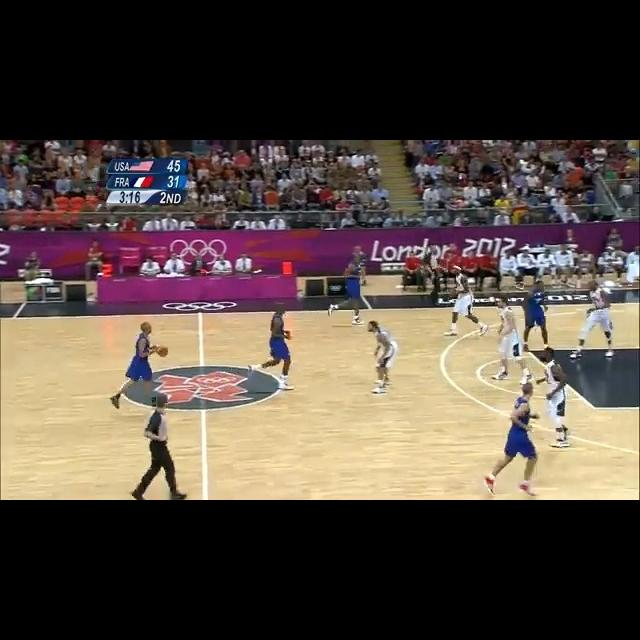basketball: (156, 347, 170, 358)
person: (112, 322, 192, 500), (478, 380, 540, 499), (538, 344, 572, 447), (363, 318, 401, 397), (331, 255, 372, 323), (493, 296, 525, 381), (574, 280, 612, 348), (266, 305, 296, 390), (448, 286, 489, 339), (525, 277, 553, 348)
